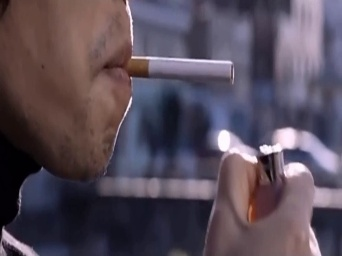smoke: (127, 54, 234, 84)
